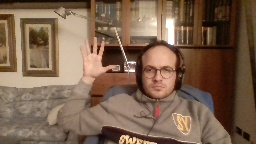Mano_aperta: (77, 35, 117, 78)
